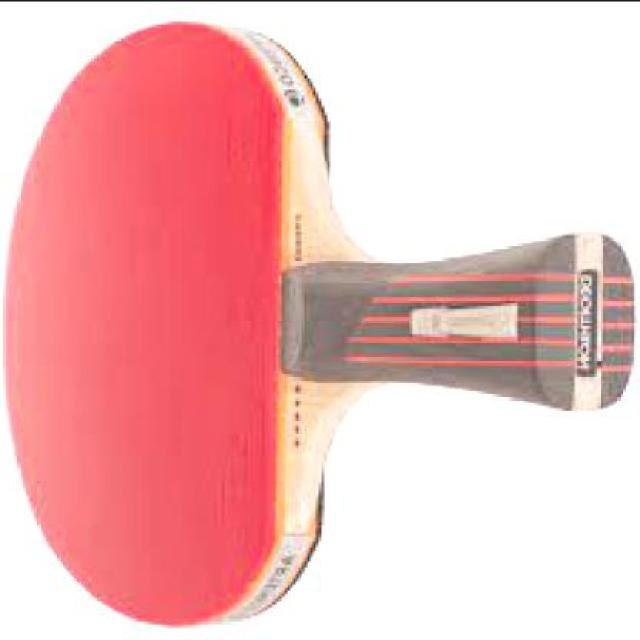table_tennis_racket: (0, 15, 358, 627)
